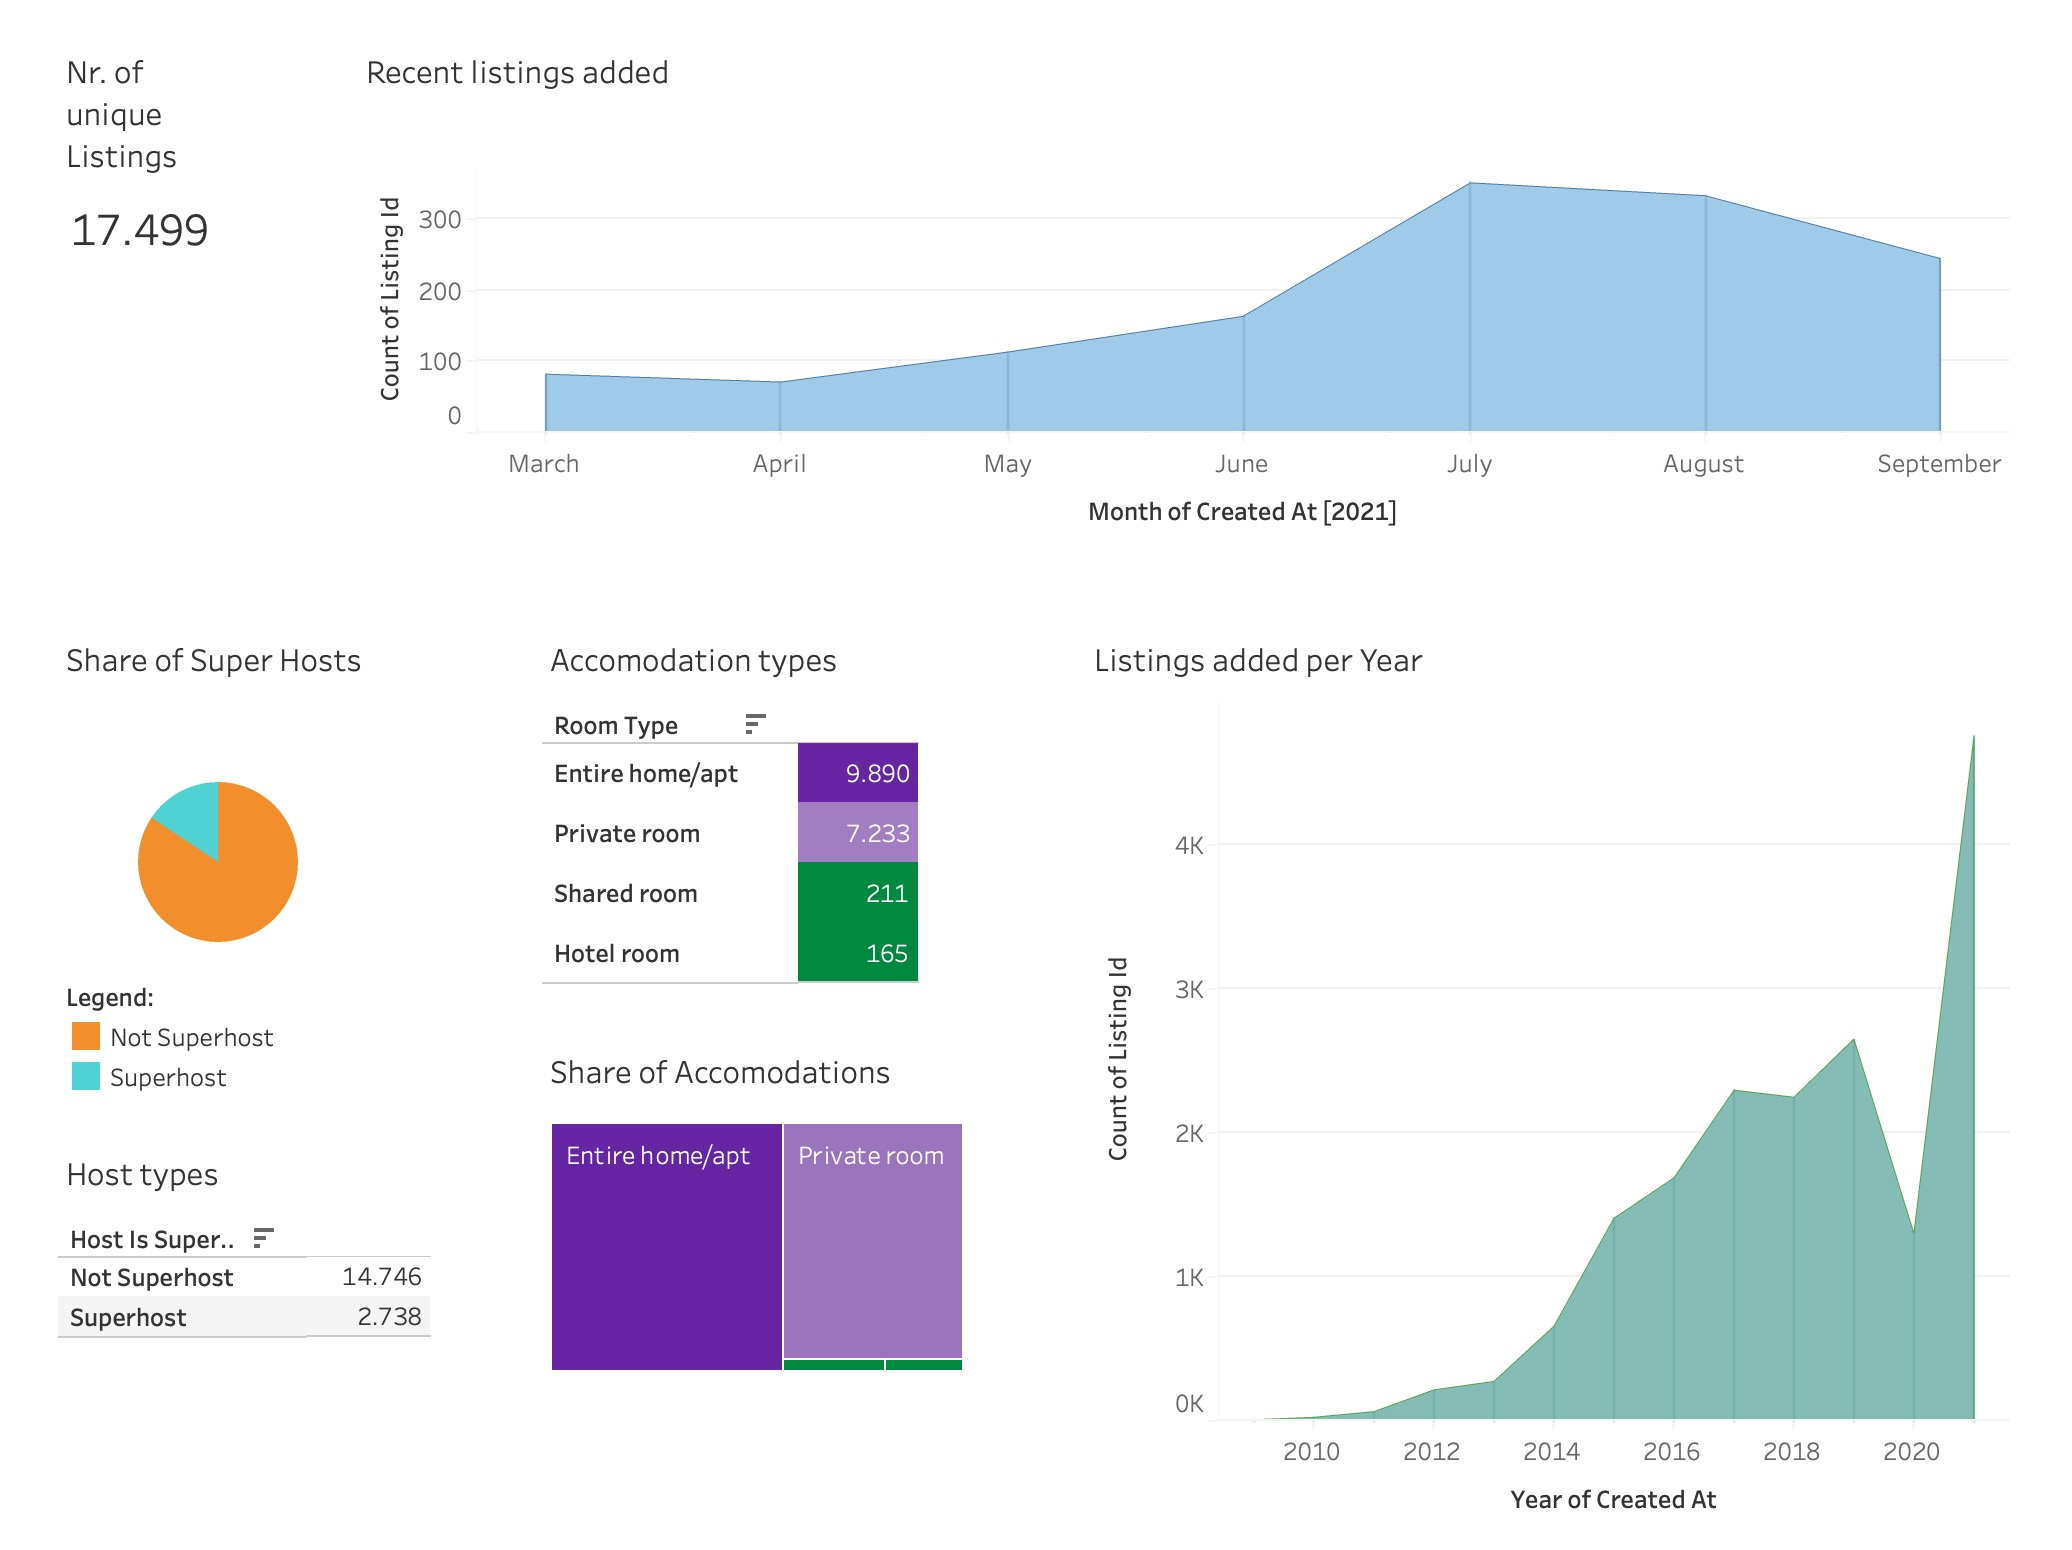

What the dashboard file says about the page in this screenshot:
{"tool":"tableau","page":{"name":"Summary stats","canvas":[1000,800],"ordinal":1},"visuals":[{"type":"blank","box":[8,8,984,32]},{"type":"worksheet","title":"Nr. u Listings","mark":"Automatic","box":[8,40,150,258]},{"type":"worksheet","title":"New listings (wk)","mark":"Area","rows":["LISTING_ID"],"cols":["CREATED_AT"],"box":[158,40,834,258]},{"type":"blank","box":[8,298,984,36]},{"type":"worksheet","title":"SuperH shr","mark":"Pie","box":[8,334,220,257]},{"type":"blank","box":[228,334,22,458]},{"type":"worksheet","title":"Listing types (2)","mark":"Square","rows":["ROOM_TYPE"],"box":[250,334,222,206]},{"type":"blank","box":[472,334,50,458]},{"type":"worksheet","title":"New listings (yr)","mark":"Area","rows":["LISTING_ID"],"cols":["CREATED_AT"],"box":[522,334,470,458]},{"type":"legend","title":"SuperH shr","param":"[federated.0fy481t14suxj81aj3ia71t3bvcg].[none:HOST_IS_SUPERHOST:nk]","box":[16,513,140,62]},{"type":"worksheet","title":"Listing types","mark":"Automatic","box":[250,540,222,247]},{"type":"worksheet","title":"SuperH cnt","mark":"Automatic","rows":["HOST_IS_SUPERHOST"],"box":[8,591,220,105]}]}

Visuals, with their boxes on the page's 1000x800 design canvas (x1, y1, x2, y2). These are canvas units, not pixel positions in the 2072x1550 screenshot, which may show the page scaled, cropped or inside an application window:
blank: 8:8:992:40
"Nr. u Listings" worksheet: 8:40:158:298
"New listings (wk)" worksheet (Area marks): 158:40:992:298
blank: 8:298:992:334
"SuperH shr" worksheet (Pie marks): 8:334:228:591
blank: 228:334:250:792
"Listing types (2)" worksheet (Square marks): 250:334:472:540
blank: 472:334:522:792
"New listings (yr)" worksheet (Area marks): 522:334:992:792
"SuperH shr" legend: 16:513:156:575
"Listing types" worksheet: 250:540:472:787
"SuperH cnt" worksheet: 8:591:228:696
